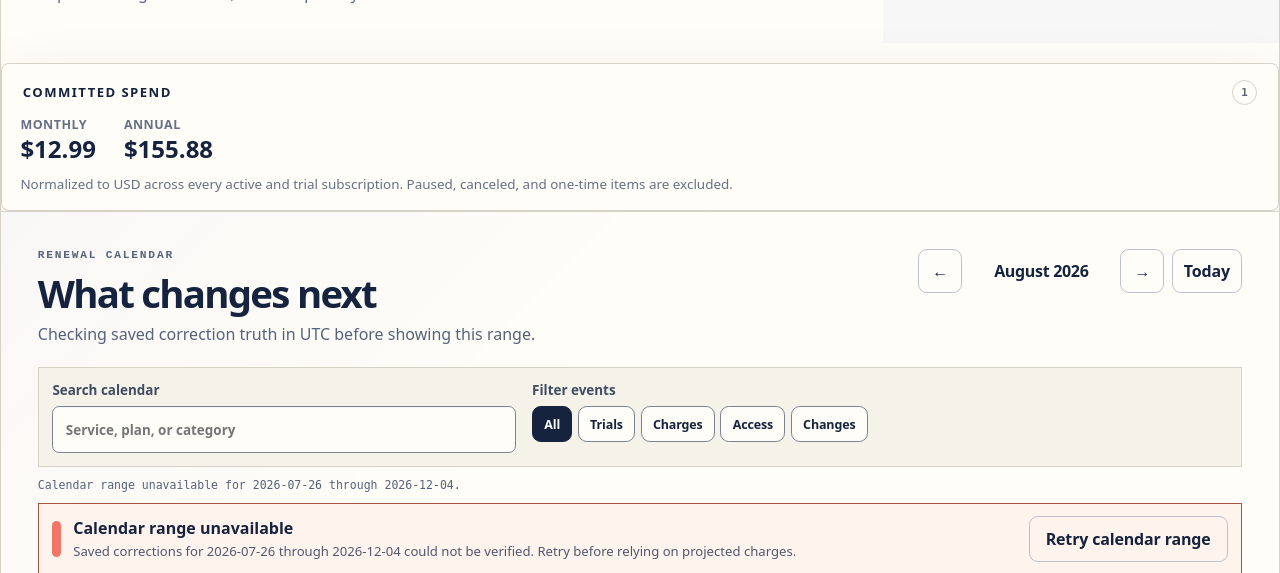
Test: SubscriptionExperience › withholds projection after an initial range failure and retries
Expected: the text "Calendar range unavailable" is shown, [73,517,293,539]
Click the button "Retry calendar range". click: coordinates (1128, 539)
box: [1029,516,1228,562]
(page scrolled)
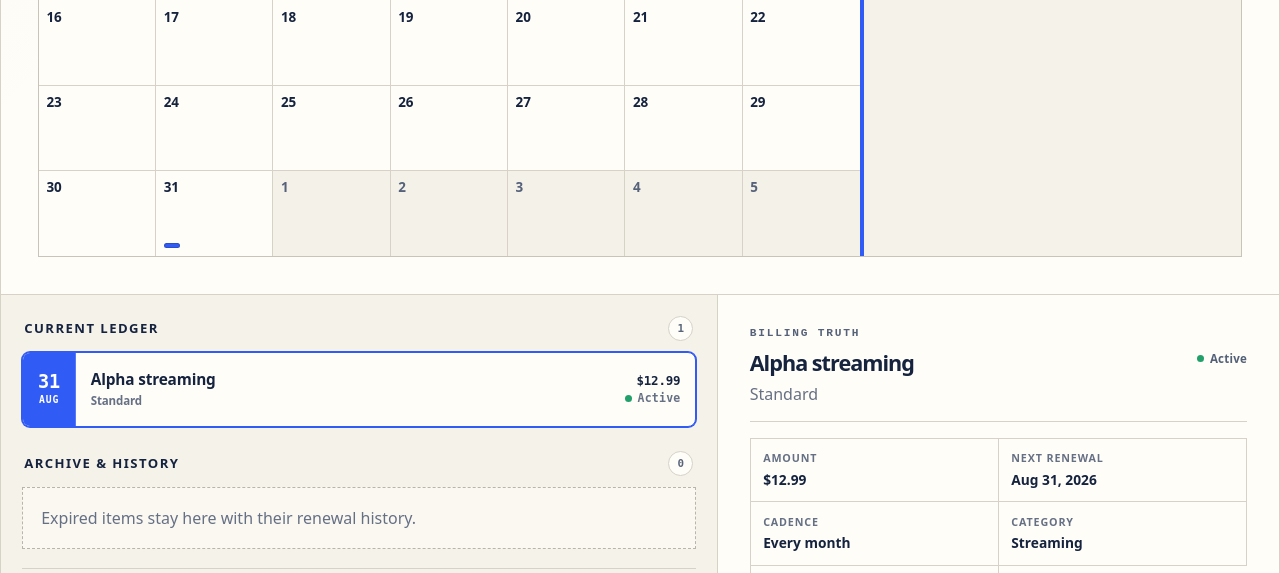
Expected: the cell named "Monday, August 31, 2026. 1 event" is shown, [156,171,273,256]
